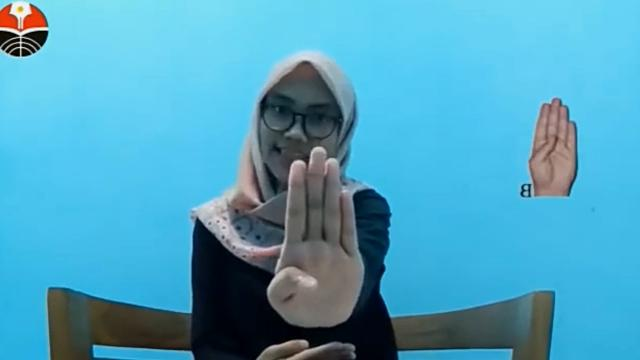B: (268, 146, 364, 328)
